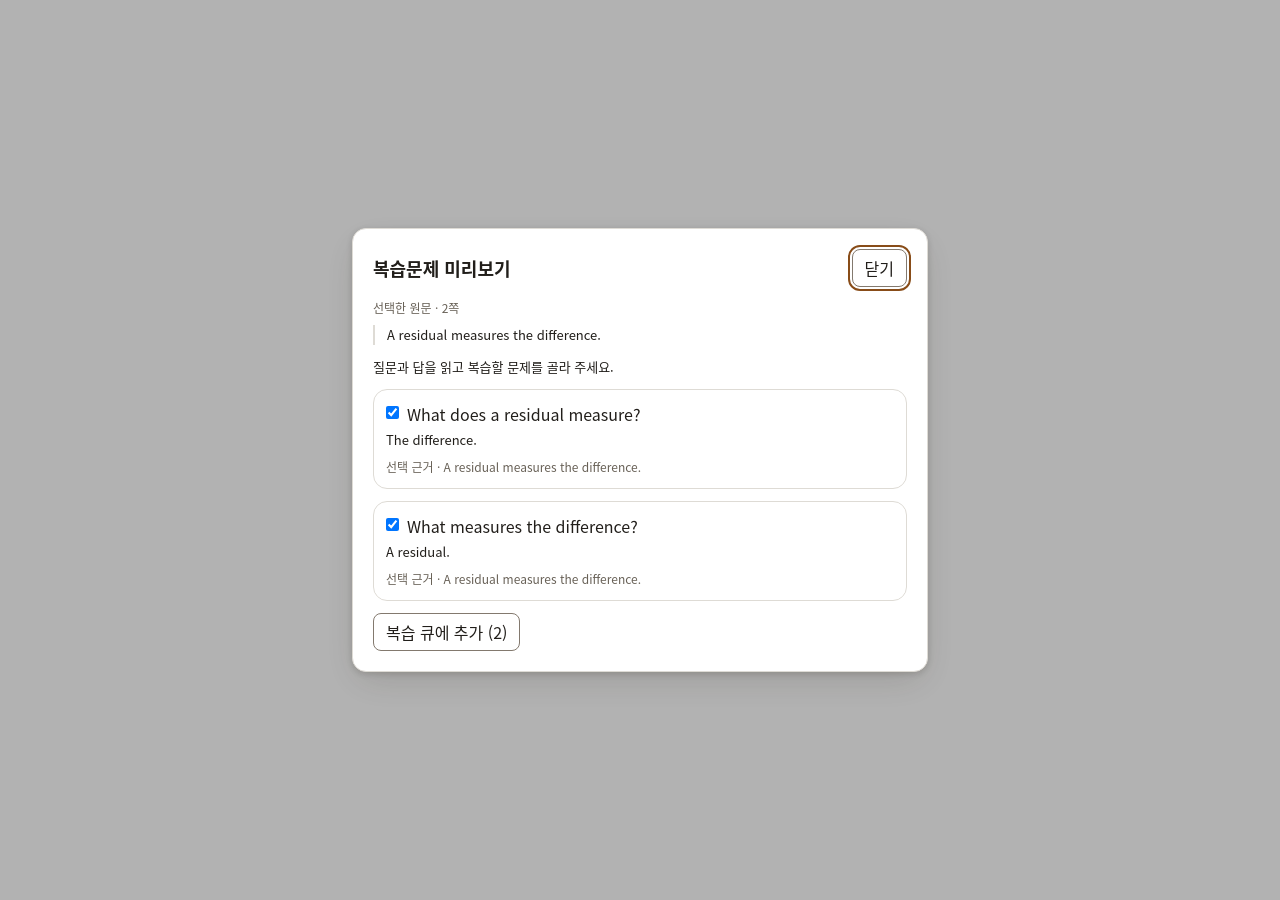
it: waits for confirmation, keeps the first committed card after a failure, and retries only the remaining index
The image size is (1280, 900).
Click the button with test id "rd-review-confirm" at point(447, 632), box [373,613,520,651]
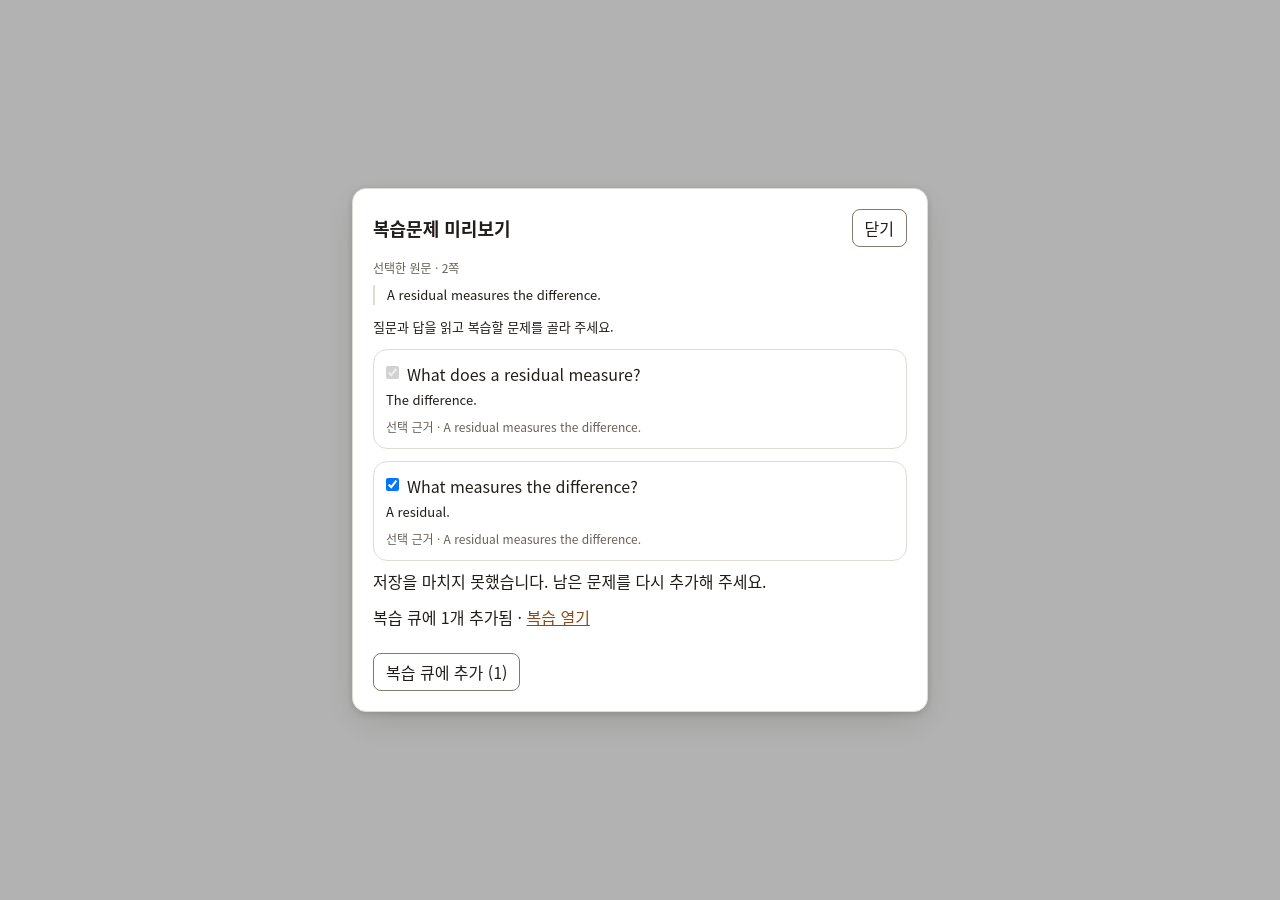
Now the message "저장을 마치지 못했습니다. 남은 문제를 다시 추가해 주세요." is shown, box [373,569,767,593]
Now the message with test id "rd-review-saved" shows "1개", box [373,605,590,629]
Click the button with test id "rd-review-confirm" at point(447, 672), box [373,653,520,691]
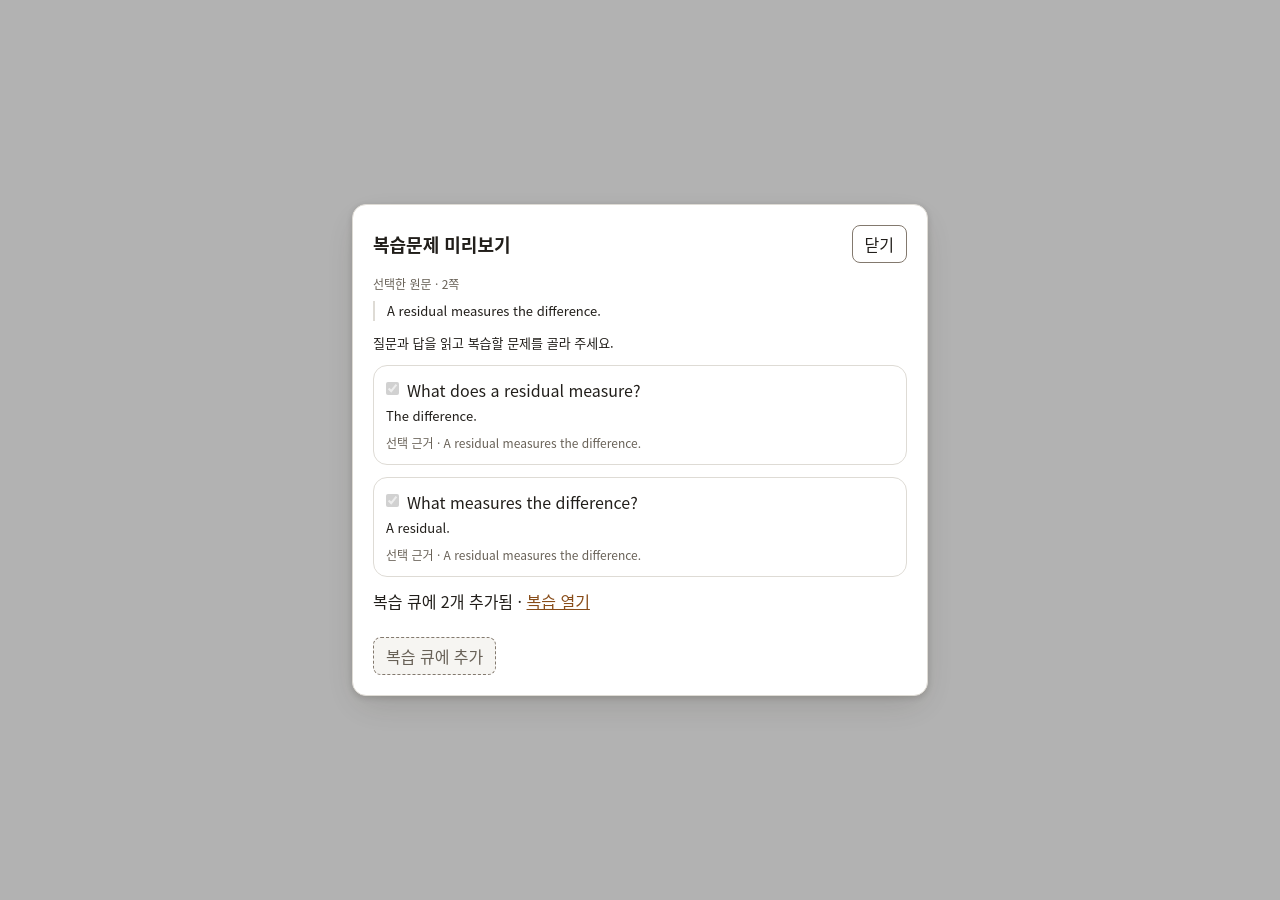
Now the message with test id "rd-review-saved" shows "2개", box [373,589,590,613]
Now the button with test id "rd-review-confirm" is disabled, box [373,637,496,675]
